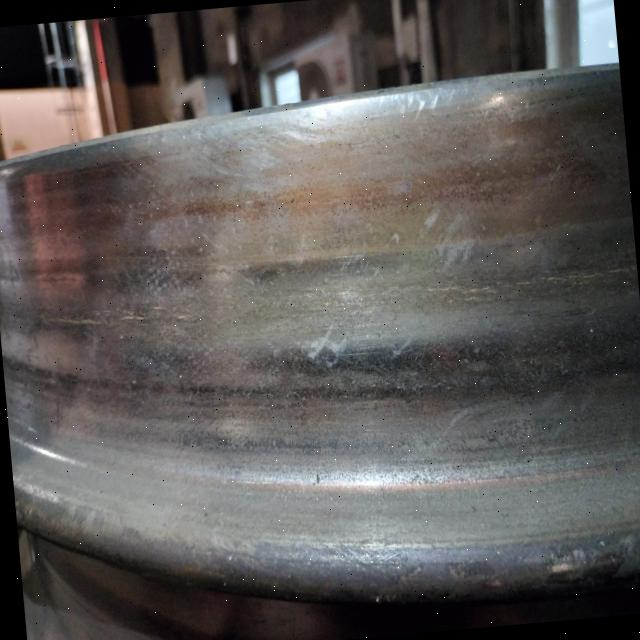Contact_Fatigue_Cracks: (398, 256, 640, 328), (12, 279, 210, 361)
